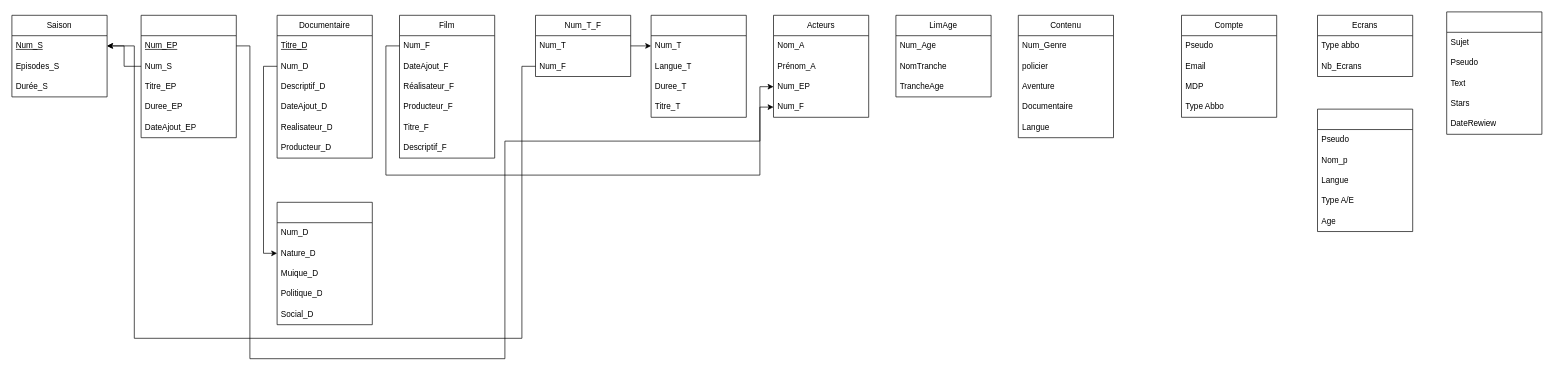
The diagram is 1554 pixels wide and 376 high, and some of its shapes have lost their labels. Here are the shapes that lost their labels. From the top down, the box of each, then its label:
(140, 15, 236, 138): Episode
(650, 15, 746, 117): Contenu Trailer
(1446, 11, 1542, 134): Review
(1317, 108, 1413, 232): Profil
(276, 202, 372, 325): Type
